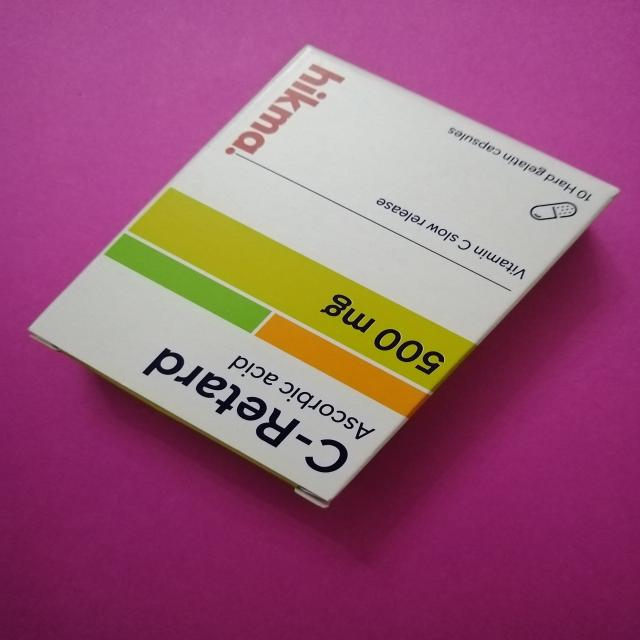C-Retard: (39, 37, 630, 524)
